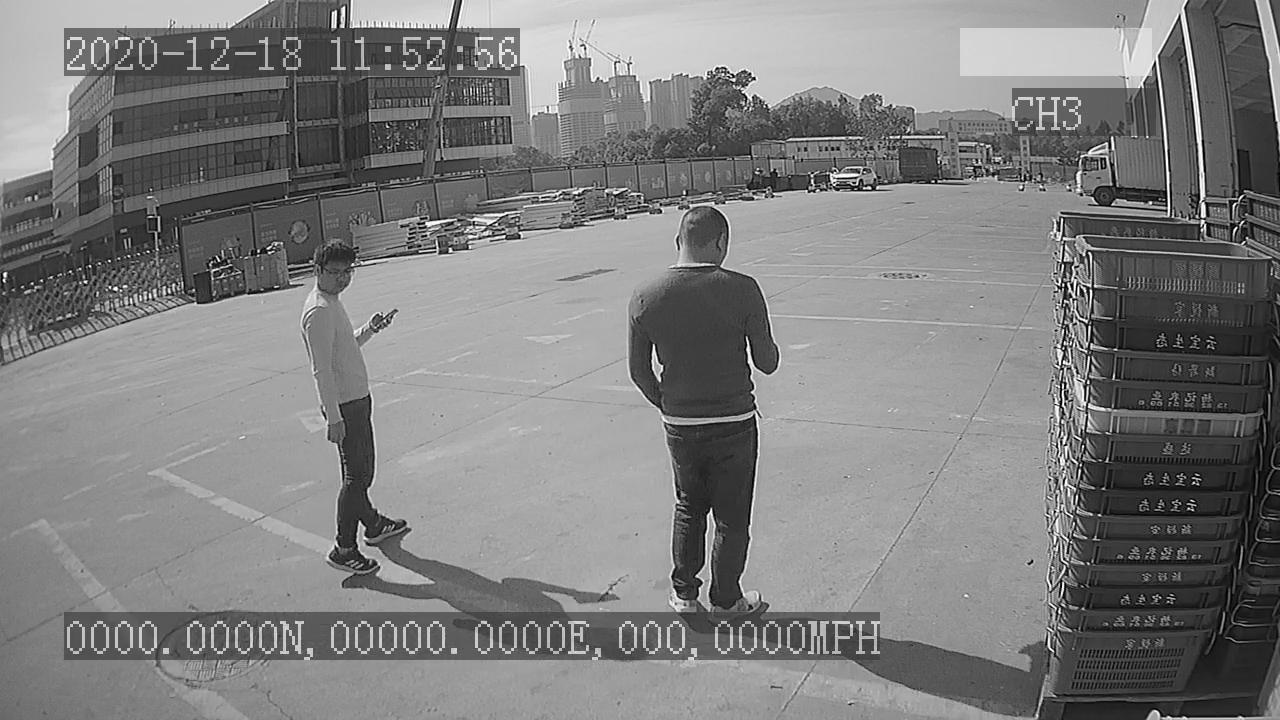person: (295, 231, 417, 590)
